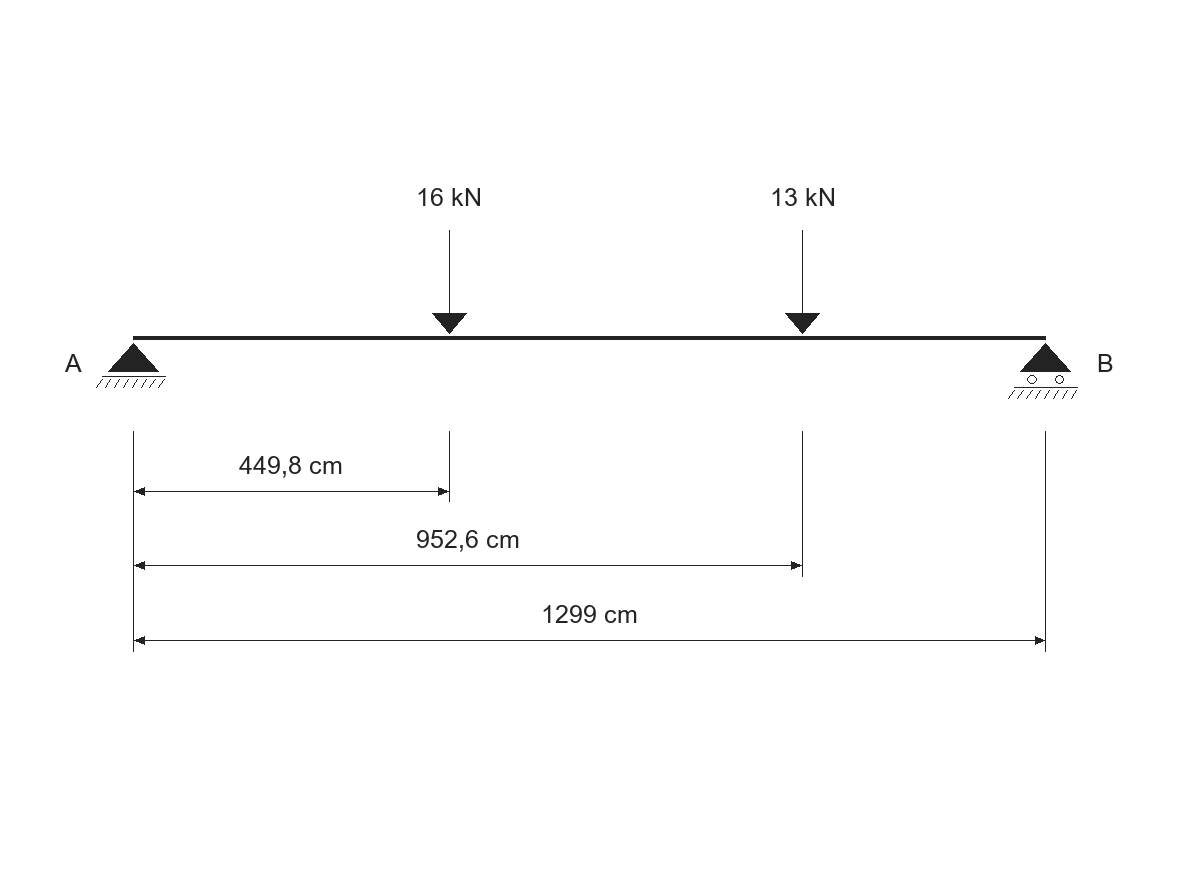pin_support: (96, 343, 166, 388)
point_load: (432, 230, 467, 334), (785, 230, 820, 334)
roller_support: (1008, 343, 1078, 399)
